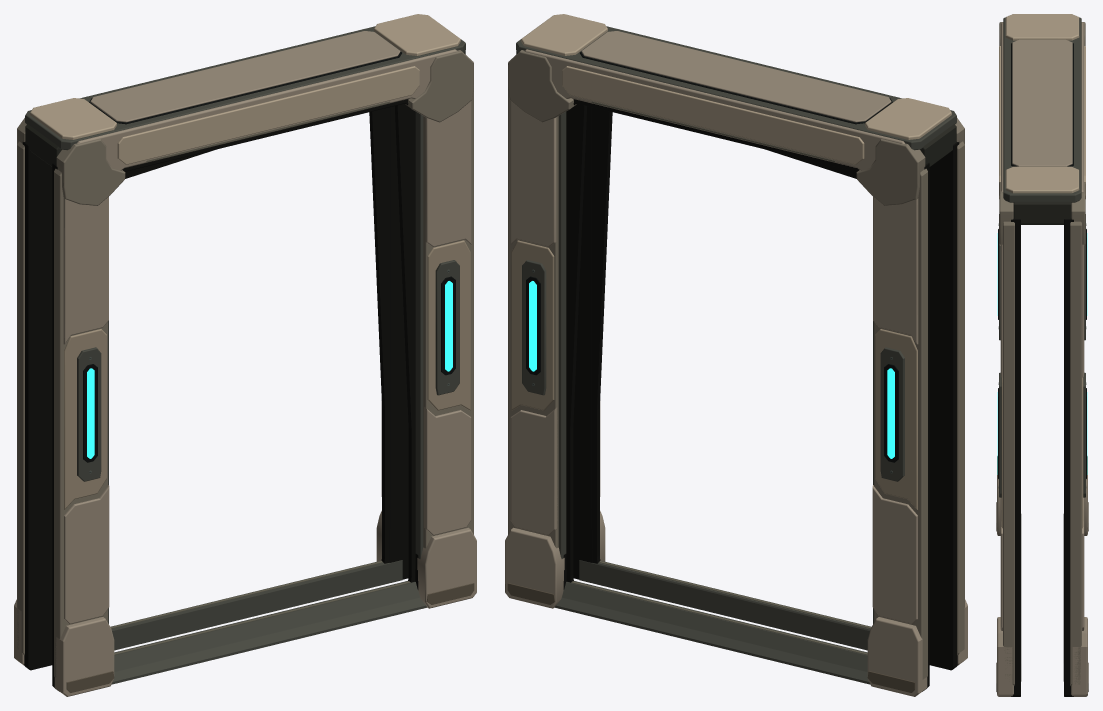
Rendered from SM_SlidingDoorFrame.fbx.
The picture shows the model from 3 angles, left to right: view 1: azimuth 30°, elevation 25°; view 2: azimuth 150°, elevation 25°; view 3: azimuth 270°, elevation 25°; orthographic projection. The views are drawn at different scales.
Visible parts, largest first — view 1: SM_SlidingDoorFrame; view 2: SM_SlidingDoorFrame; view 3: SM_SlidingDoorFrame.
Boxes of the visible parts, x1=… form: SM_SlidingDoorFrame: x1=14, y1=14, x2=476, y2=696; SM_SlidingDoorFrame: x1=505, y1=14, x2=967, y2=696; SM_SlidingDoorFrame: x1=996, y1=14, x2=1088, y2=696.
Bounding box in the file's own units: 1.64 × 0.3474 × 2.1.
